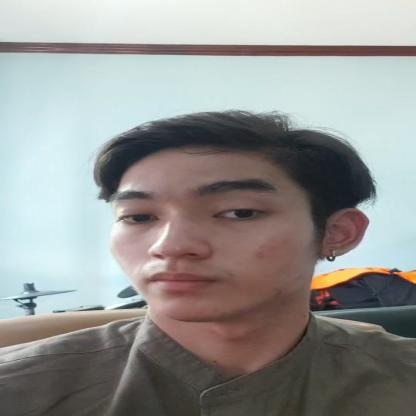Palm: (75, 103, 400, 327)
